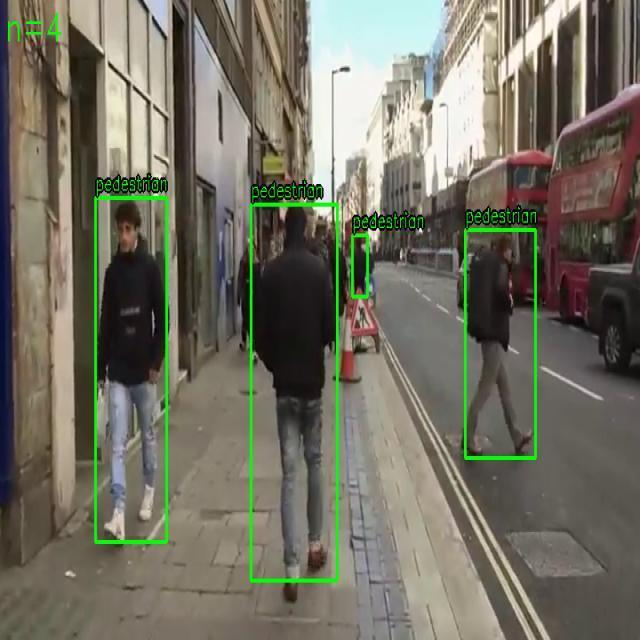person: (250, 204, 338, 582), (95, 197, 167, 543), (465, 229, 536, 459), (352, 235, 368, 298)
